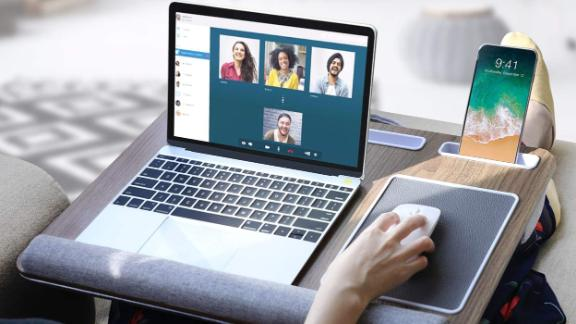Cell Phone: (458, 41, 540, 166)
